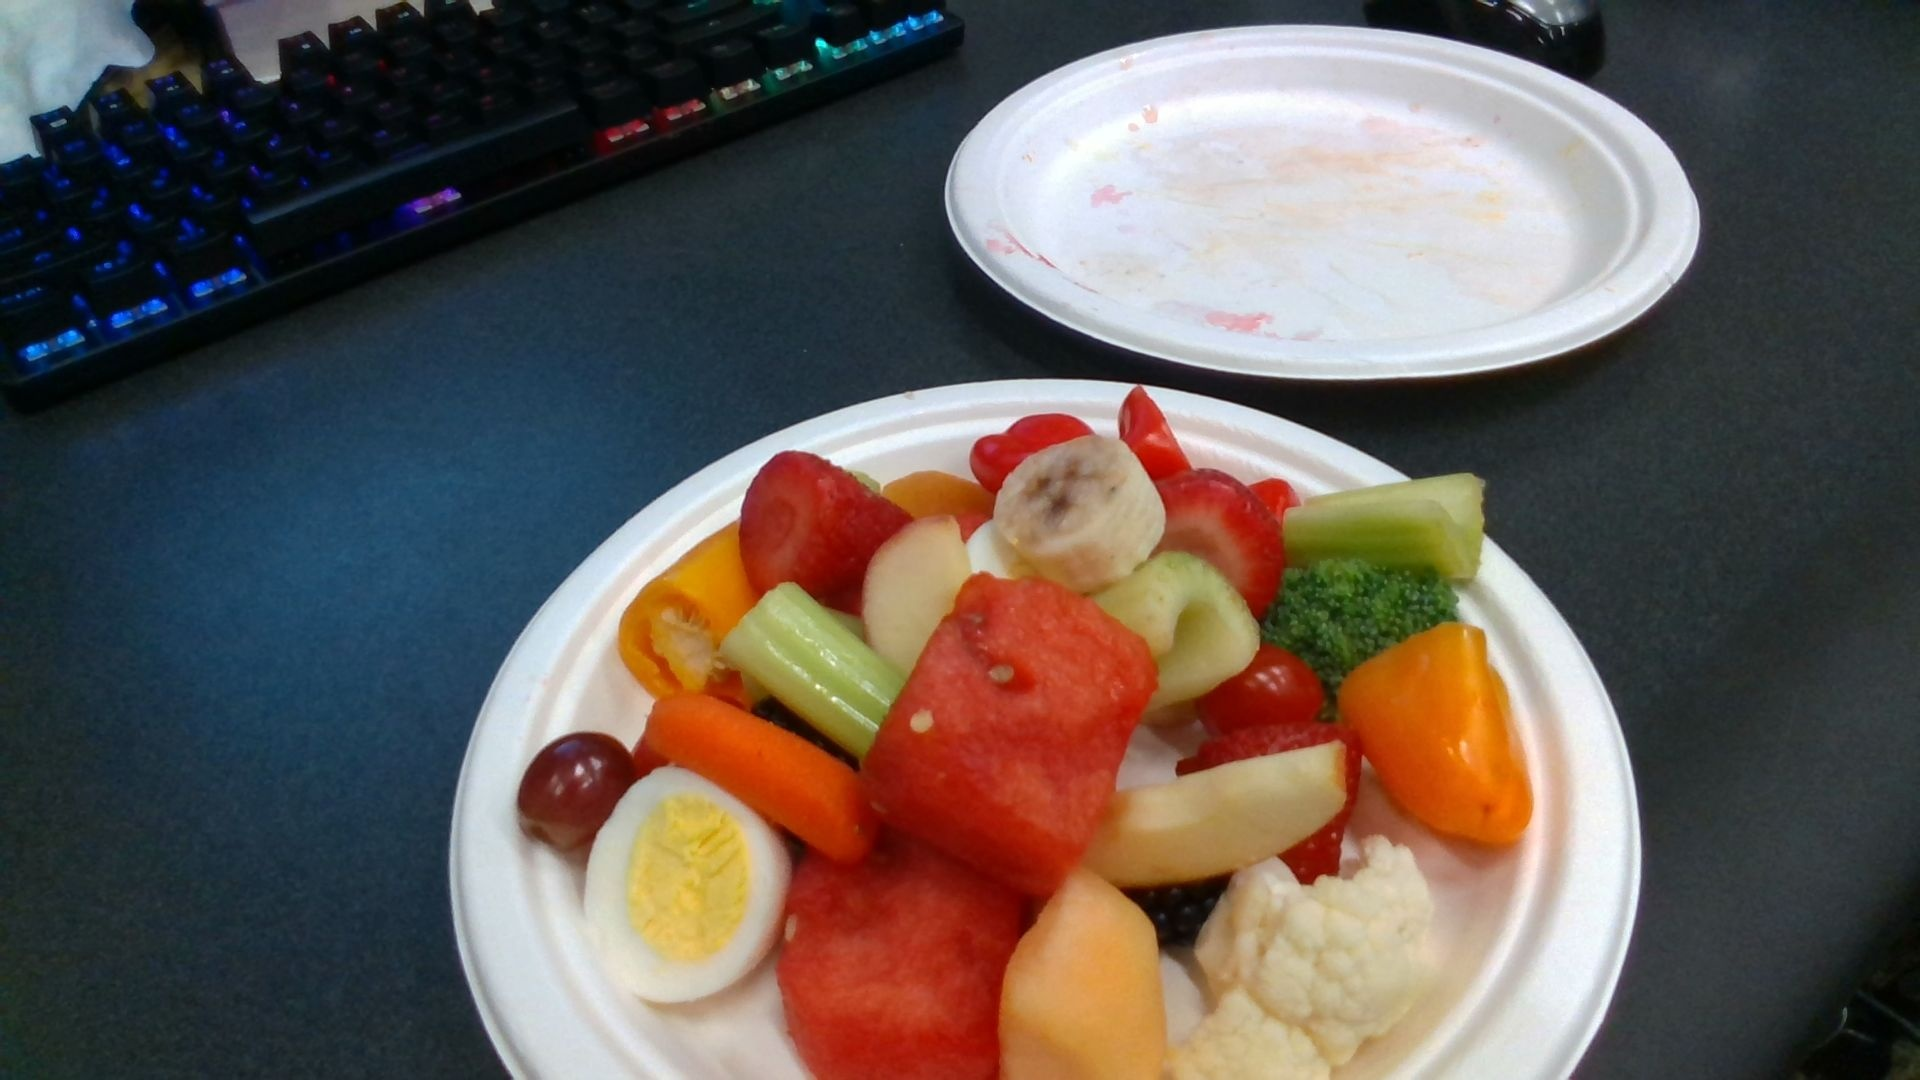apple: (1085, 742, 1345, 881), (862, 520, 967, 678)
banana: (994, 438, 1167, 583)
bell_pepper: (1344, 626, 1532, 840), (618, 520, 760, 702)
broccoli: (1261, 560, 1458, 680)
cantalope: (1000, 876, 1168, 1080)
carrot: (645, 691, 872, 858)
cauliflower: (1195, 836, 1435, 1060)
celery: (720, 582, 902, 753), (1092, 553, 1261, 705), (1284, 475, 1485, 582)
egg: (585, 767, 793, 1001)
grape_purple: (520, 736, 632, 851)
melon: (865, 575, 1155, 890), (779, 847, 1018, 1080)
strawberry: (744, 454, 915, 591), (1153, 469, 1287, 611)
